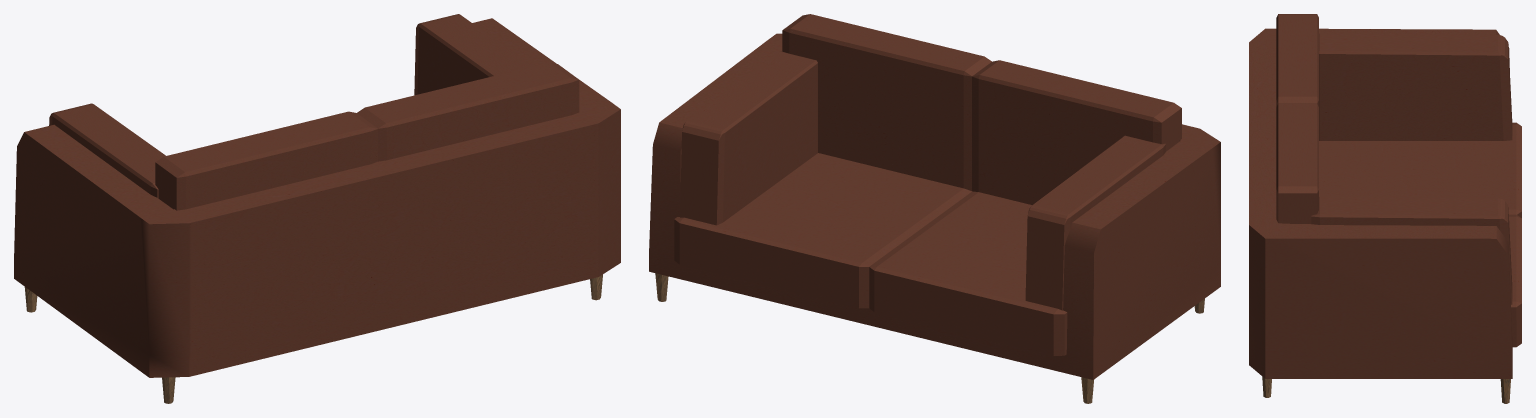
3 views of the same model, side by side, from view 1: azimuth 30°, elevation 25°; view 2: azimuth 150°, elevation 25°; view 3: azimuth 270°, elevation 25° (orthographic). The views are drawn at different scales.
Parts seen in each view (by area): view 1: Cube, Cube_004, Cube_005, Cube_007, Cube_006, Cube_003; view 2: Cube, Cube_002__1_, Cube_005, Cube_002, Cube_004, Cube_007, Cube_006, Cube_003; view 3: Cube, Cube_006, Cube_002, Cube_007, Cube_005, Cube_004, Cube_002__1_, Cube_003.
Part boxes in pixels (box(x1,y1,x2,y2)): Cube: box(14, 18, 620, 377); Cube_004: box(155, 111, 377, 210); Cube_005: box(357, 62, 579, 161); Cube_007: box(414, 14, 532, 95); Cube_006: box(49, 103, 165, 198); Cube_003: box(24, 274, 602, 403); Cube: box(649, 33, 1220, 379); Cube_002__1_: box(674, 153, 971, 308); Cube_005: box(782, 14, 991, 190); Cube_002: box(869, 191, 1067, 355); Cube_004: box(972, 60, 1181, 204); Cube_007: box(680, 51, 817, 225); Cube_006: box(1025, 135, 1165, 310); Cube_003: box(655, 273, 1204, 403); Cube: box(1249, 28, 1512, 378); Cube_006: box(1319, 33, 1512, 140); Cube_002: box(1319, 122, 1521, 217); Cube_007: box(1311, 196, 1512, 304); Cube_005: box(1276, 103, 1318, 223); Cube_004: box(1276, 14, 1318, 106); Cube_002__1_: box(1509, 214, 1521, 347); Cube_003: box(1262, 376, 1510, 403).
Bounding box in the file's own units: 7.55 × 3.4 × 4.14.
4 materials, 4 textured.
